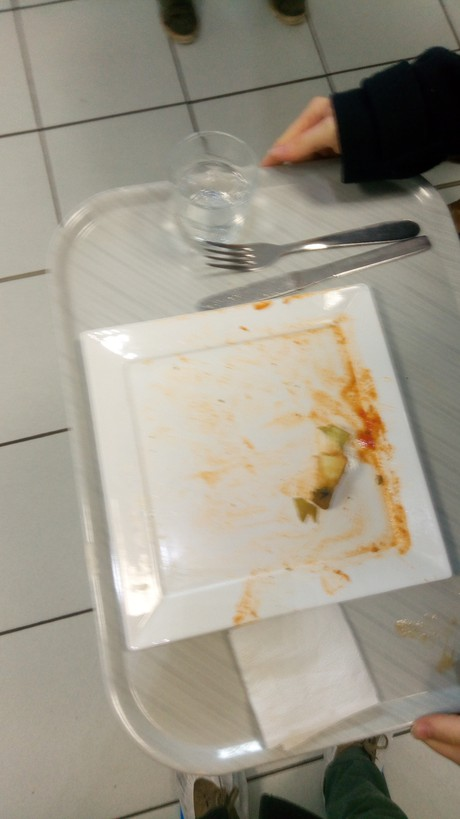cup: (152, 125, 271, 249)
cutlery: (171, 210, 439, 306)
trash: (217, 612, 390, 742)
